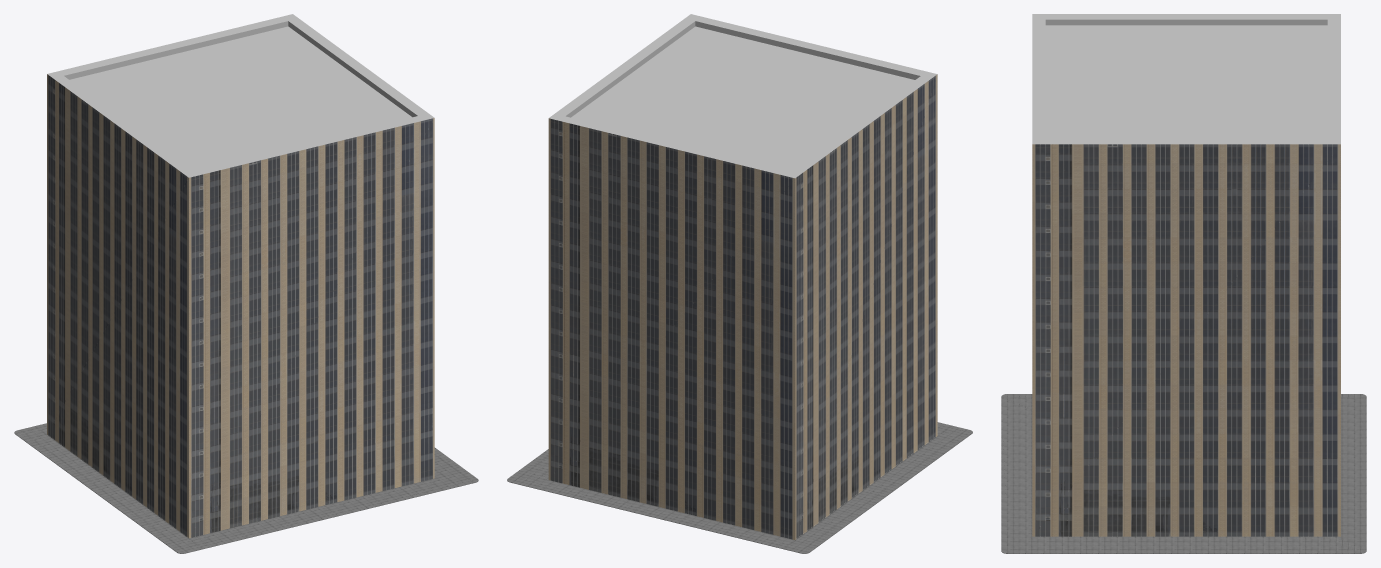
File: Building 1.FBX
3 renders of one model, left to right at view 1: azimuth 30°, elevation 25°; view 2: azimuth 150°, elevation 25°; view 3: azimuth 270°, elevation 25°, orthographic. The views are drawn at different scales.
Visible parts, largest first — view 1: Building 1; view 2: Building 1; view 3: Building 1.
Part boxes in pixels (x1=…): Building 1: x1=14, y1=14, x2=478, y2=553; Building 1: x1=507, y1=14, x2=972, y2=553; Building 1: x1=1001, y1=14, x2=1366, y2=553.
Size of the model in its own units: 1042 by 1194 by 1007.
